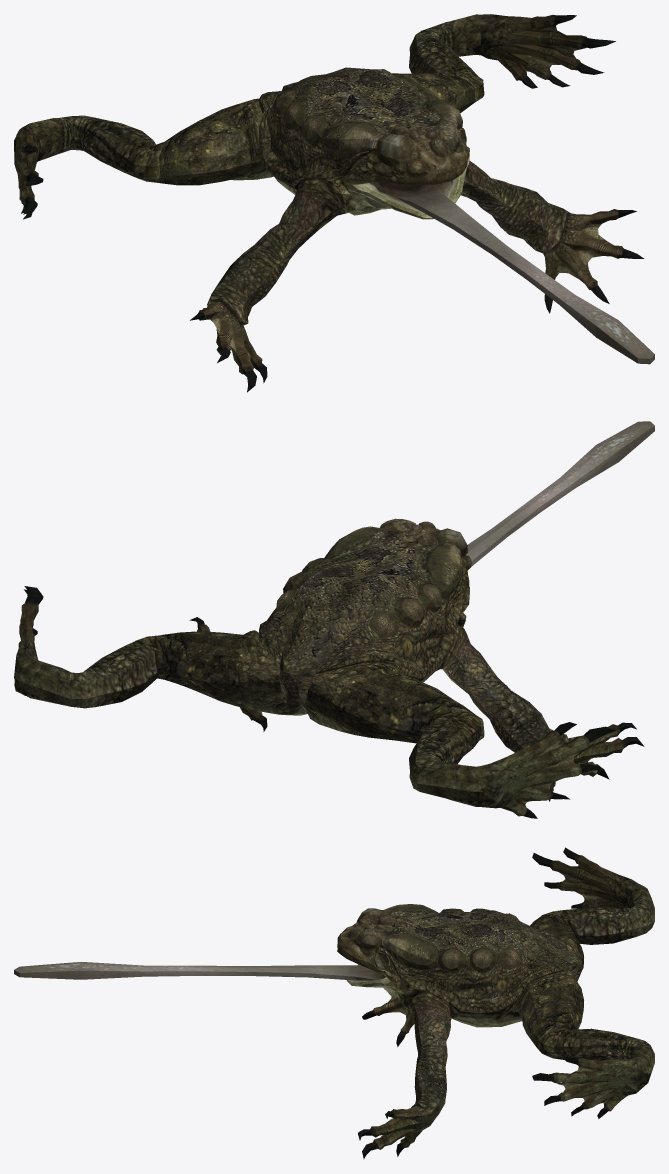
Rendered from Lurker.obj.
The picture shows the model from 3 angles, top to bottom: view 1: azimuth 30°, elevation 25°; view 2: azimuth 150°, elevation 25°; view 3: azimuth 270°, elevation 25°; orthographic projection. The views are drawn at different scales.
Visible parts, largest first — view 1: Mesh.009_mesh0120; view 2: Mesh.009_mesh0120; view 3: Mesh.009_mesh0120.
Boxes of the visible parts, x1,y1,x2,y2 form: Mesh.009_mesh0120: (14,14,654,392); Mesh.009_mesh0120: (14,421,654,818); Mesh.009_mesh0120: (14,847,654,1159).
Bounding box in the file's own units: 30.56 × 11.41 × 36.31.
3 materials, 3 textured.
